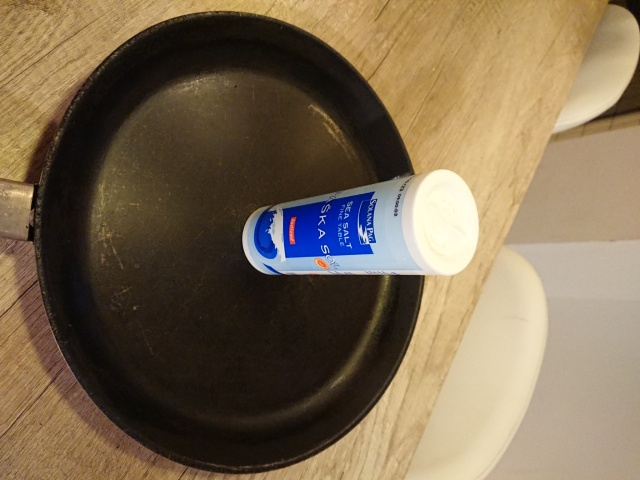Solana Pag Fine Sea Salt 250g: (237, 164, 482, 278)
